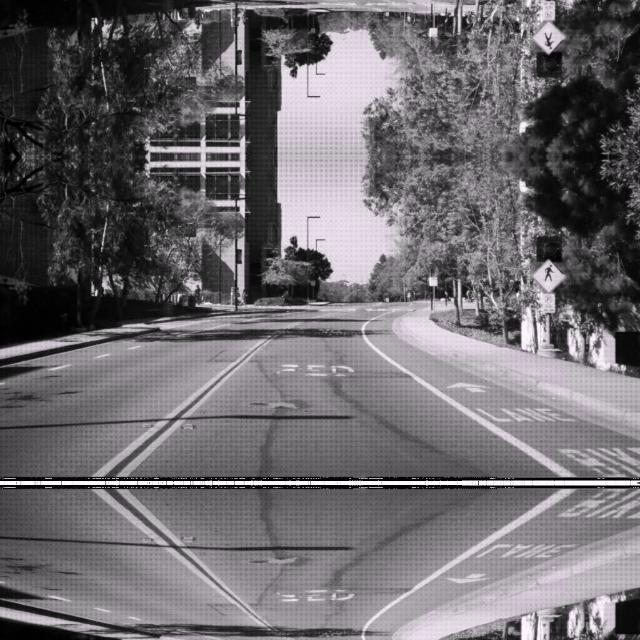pedestrianCrossing: (532, 256, 566, 292), (532, 20, 566, 56)
